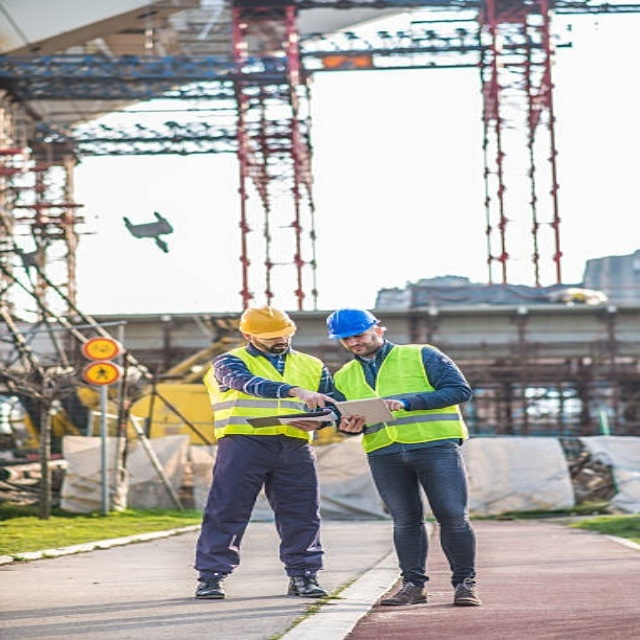Sin_gafas: (328, 330, 382, 346), (256, 332, 302, 344)
Sin_guantes: (296, 389, 339, 410), (337, 413, 368, 431), (380, 398, 406, 412), (291, 422, 318, 432)
Sin_mascara: (345, 345, 372, 358), (270, 343, 293, 358)
